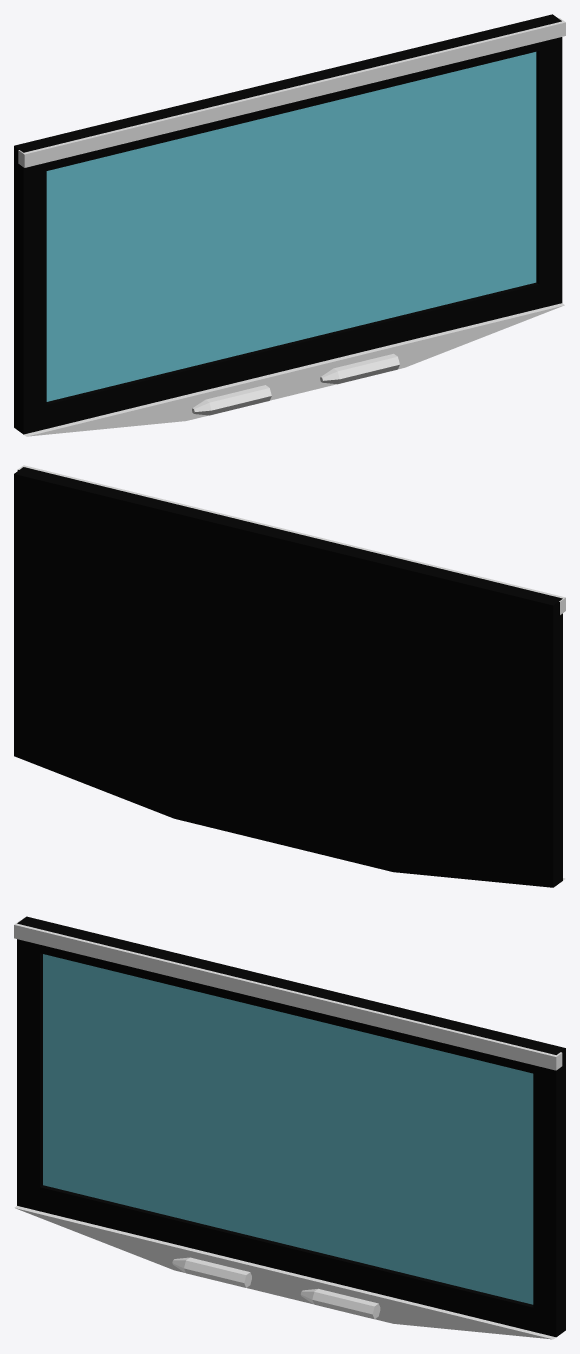
Rendered from smartBoard.glb.
3 views of the same model, one above another, from view 1: azimuth 30°, elevation 25°; view 2: azimuth 150°, elevation 25°; view 3: azimuth 330°, elevation 25° (orthographic).
Parts seen in each view (by area): view 1: Cube.004; view 2: Cube.004; view 3: Cube.004.
Part boxes in pixels (x1,y1,x2,y2): Cube.004: (14,14,565,436); Cube.004: (14,465,565,887); Cube.004: (14,916,565,1339).
Size of the model in its own units: 4.02 by 2.17 by 0.2601.
